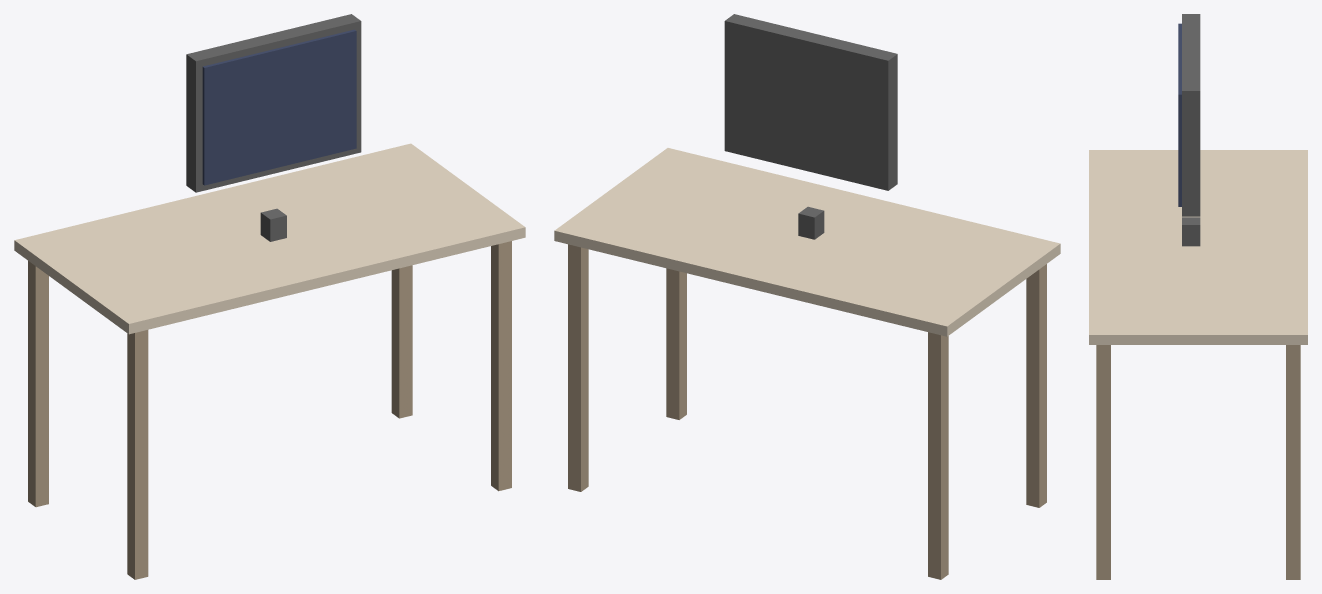
The model's file is desk.glb.
The picture shows the model from 3 angles, left to right: view 1: azimuth 30°, elevation 25°; view 2: azimuth 150°, elevation 25°; view 3: azimuth 270°, elevation 25°; orthographic projection. The views are drawn at different scales.
Size of the model in its own units: 1.2 by 1.33 by 0.6.
